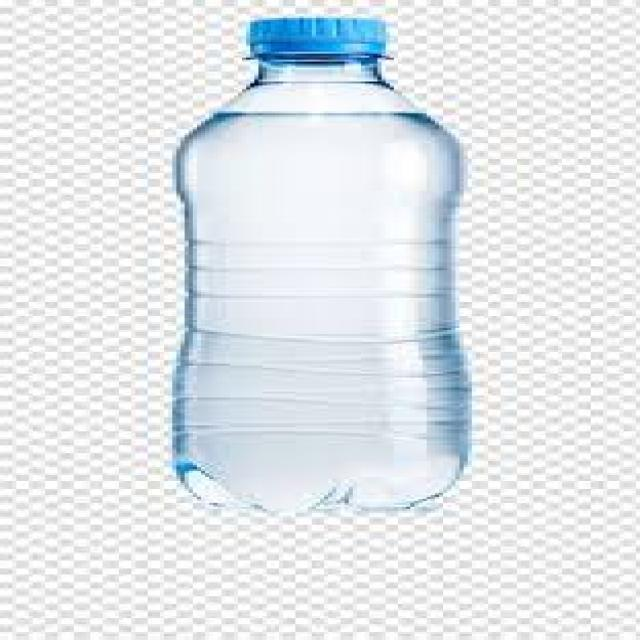Plastic: (169, 16, 476, 510)
